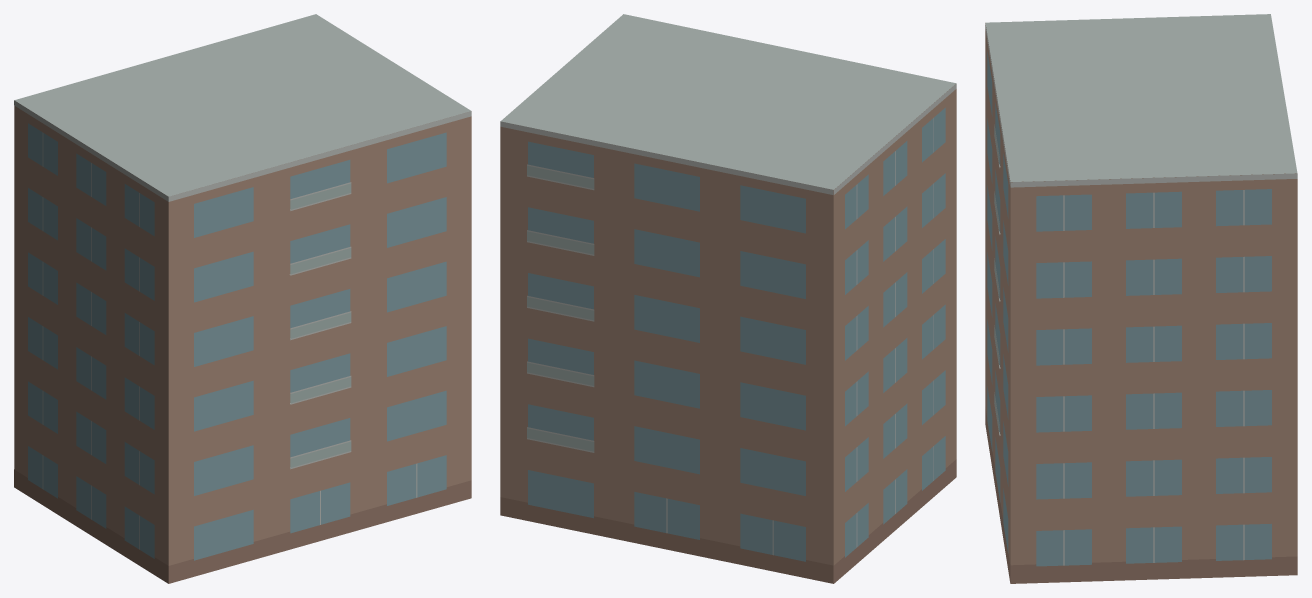
Rendered from survey-upis-32738054.glb.
The picture shows the model from 3 angles, left to right: view 1: azimuth 30°, elevation 25°; view 2: azimuth 150°, elevation 25°; view 3: azimuth 270°, elevation 25°; orthographic projection. The views are drawn at different scales.
Visible parts, largest first — view 1: survey-upis-32738054.tmp; view 2: survey-upis-32738054.tmp; view 3: survey-upis-32738054.tmp.
Part boxes in pixels (x1,y1,x2,y2): survey-upis-32738054.tmp: [14, 14, 471, 583]; survey-upis-32738054.tmp: [500, 14, 956, 583]; survey-upis-32738054.tmp: [985, 14, 1297, 583].
Bounding box in the file's own units: 16.16 × 18 × 12.68.
